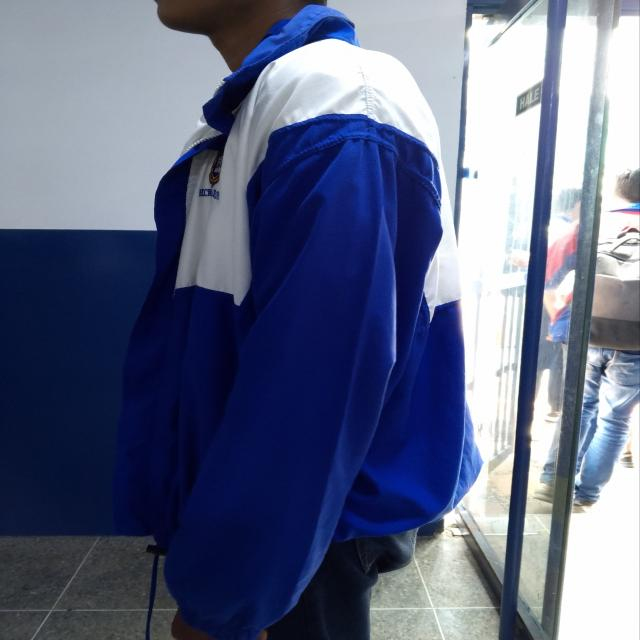chaqueta_unefa: (111, 2, 468, 638)
